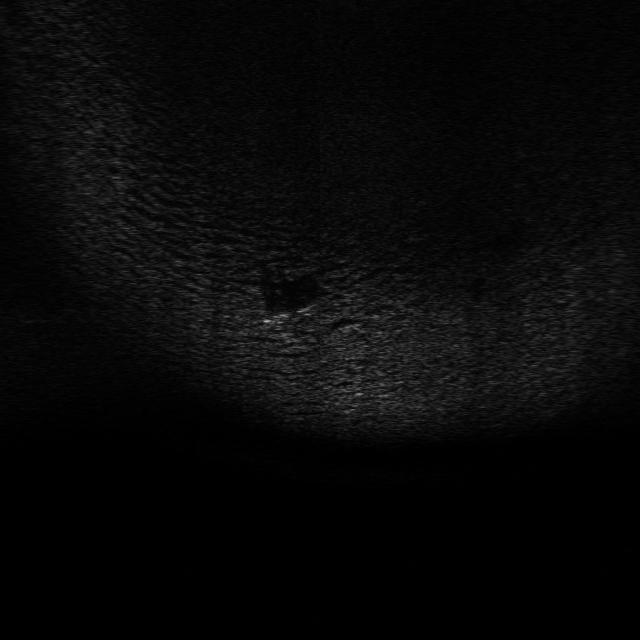plane: (252, 304, 321, 342)
